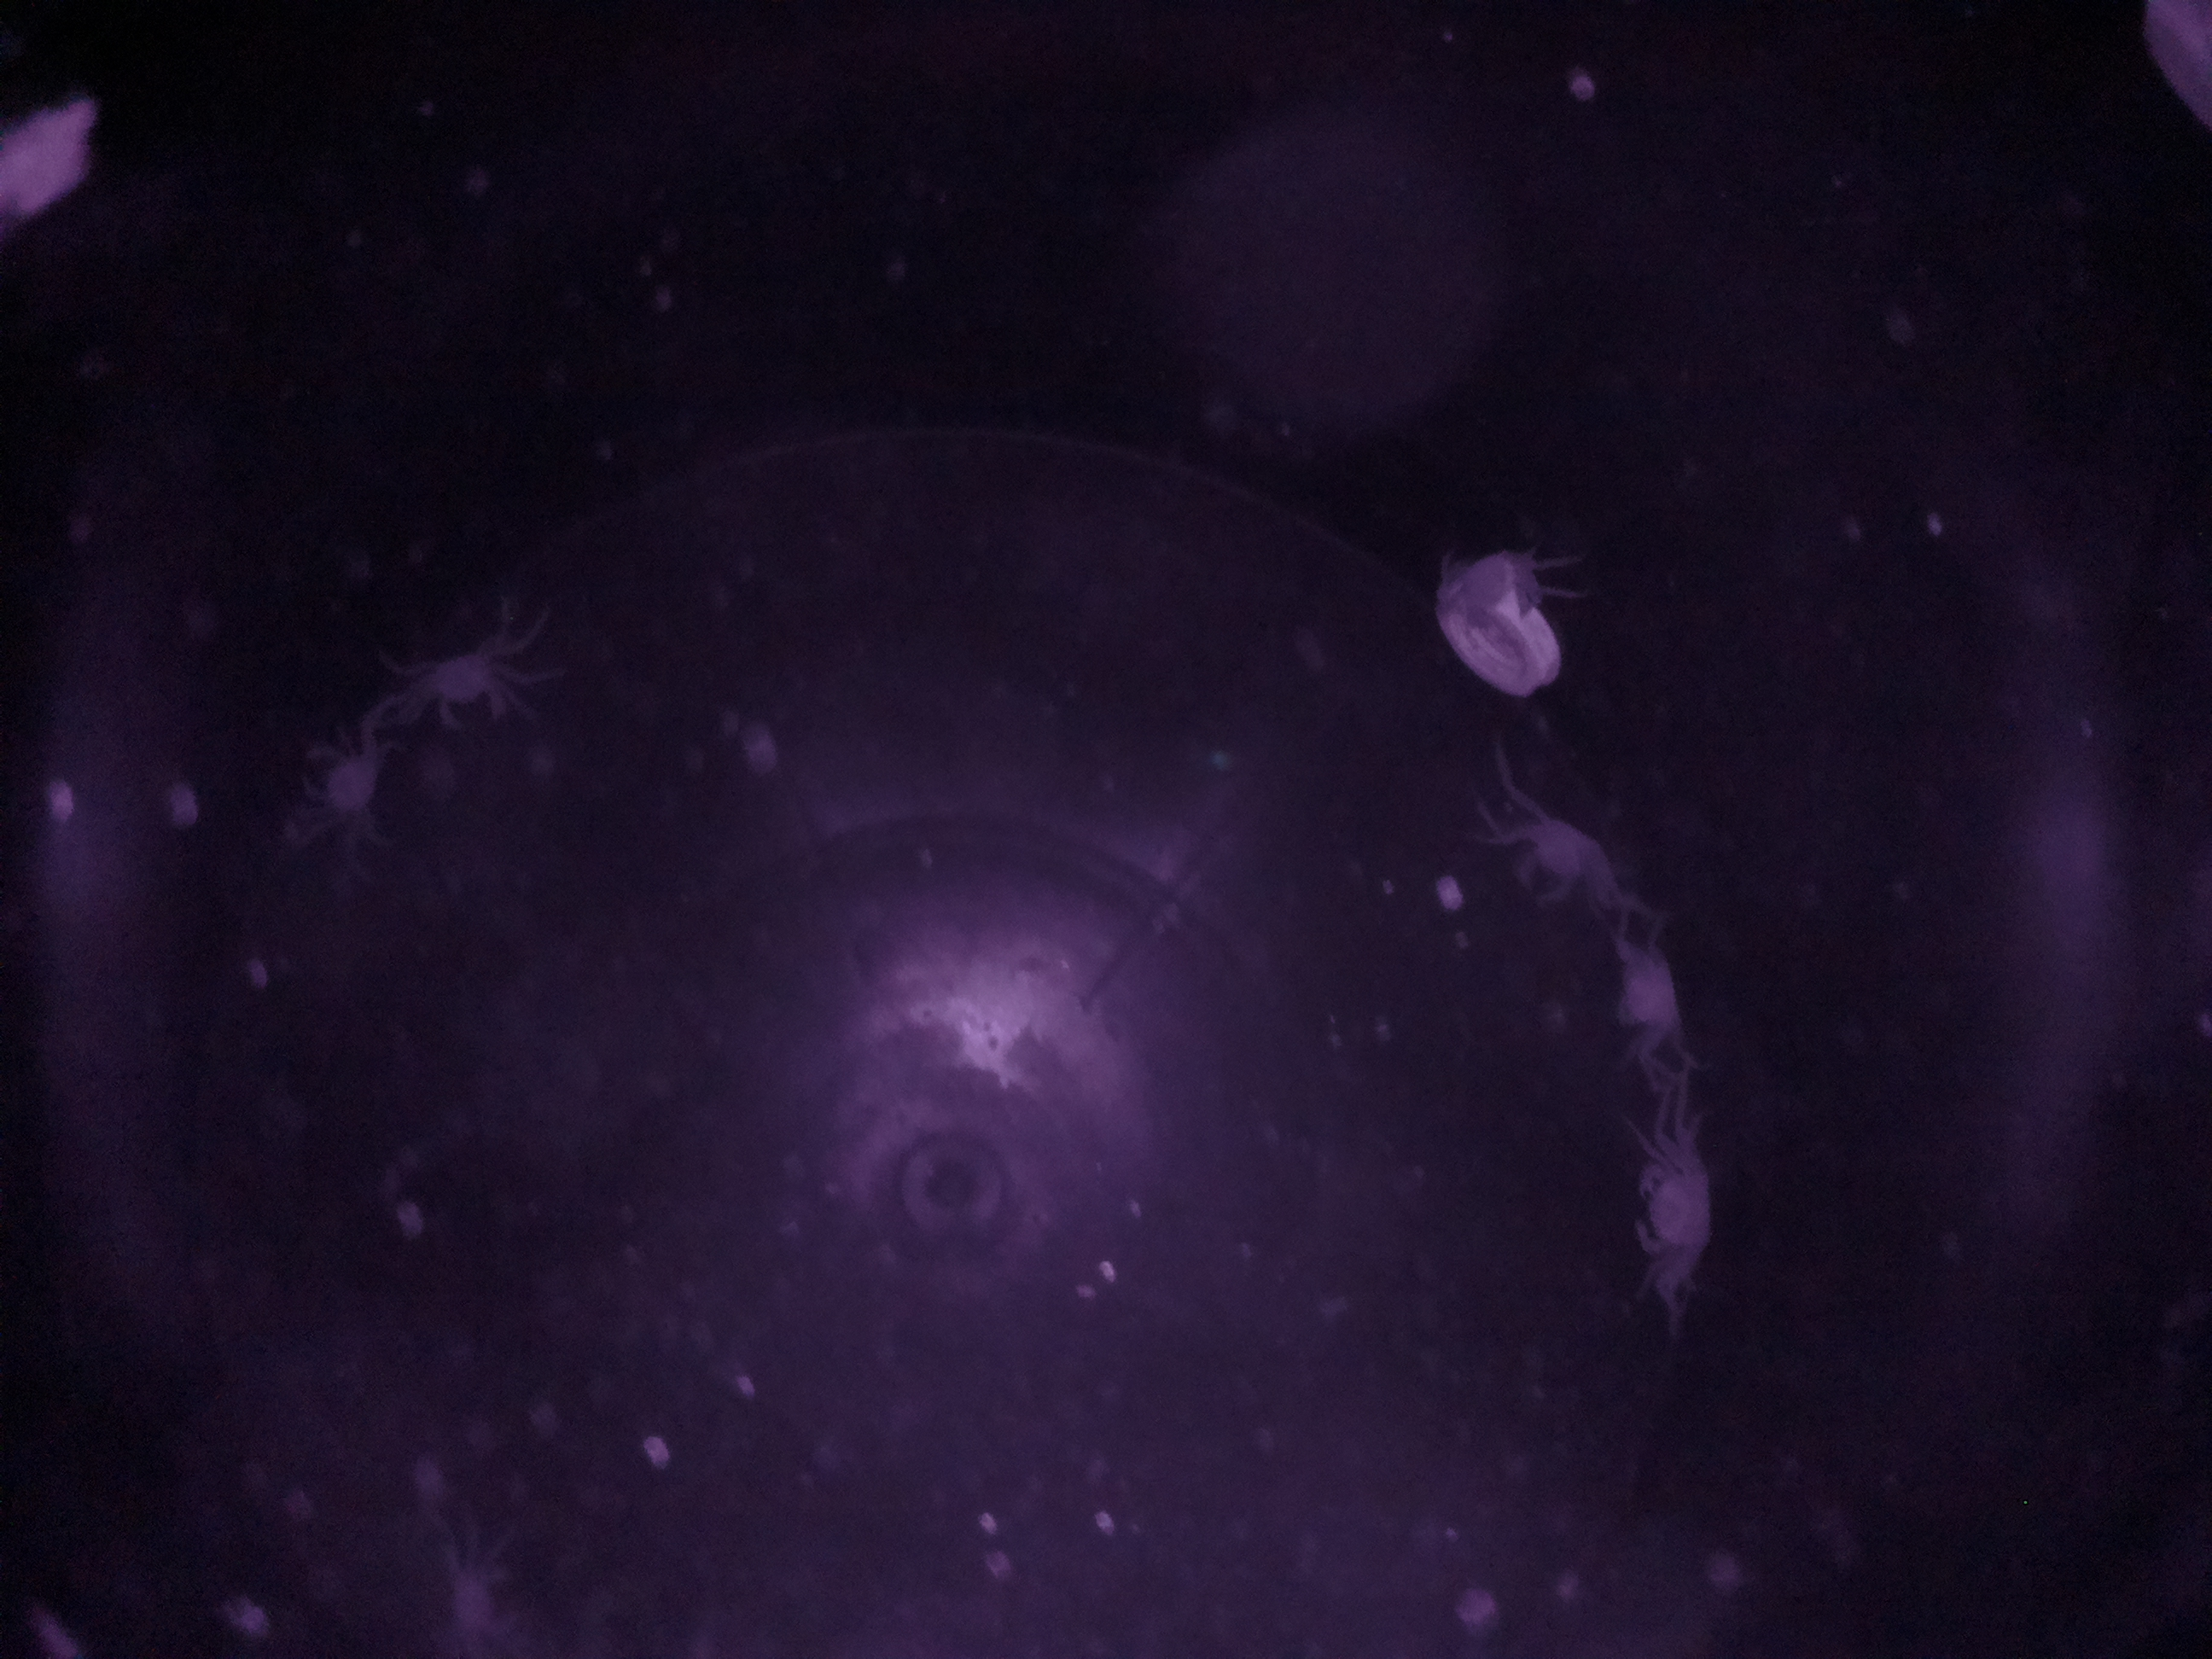Crab: (1606, 1126, 1735, 1281), (399, 626, 533, 746)
